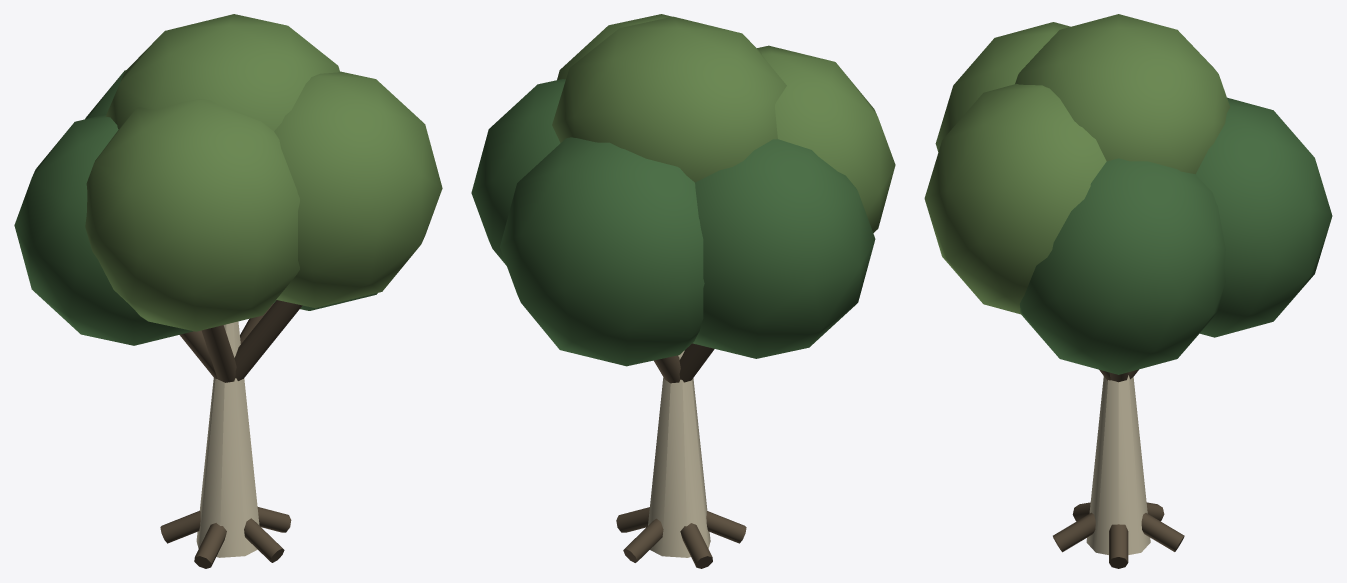
The model's file is tree-birch.glb.
3 renders of one model, left to right at view 1: azimuth 30°, elevation 25°; view 2: azimuth 150°, elevation 25°; view 3: azimuth 270°, elevation 25°, orthographic.
Visible parts, largest first — view 1: tree-birch-visual; view 2: tree-birch-visual; view 3: tree-birch-visual.
Part boxes in pixels (<box>): tree-birch-visual: <box>14,14,442,568</box>; tree-birch-visual: <box>471,14,895,568</box>; tree-birch-visual: <box>924,14,1332,568</box>.
Size of the model in its own units: 2.05 by 2.66 by 1.9.
